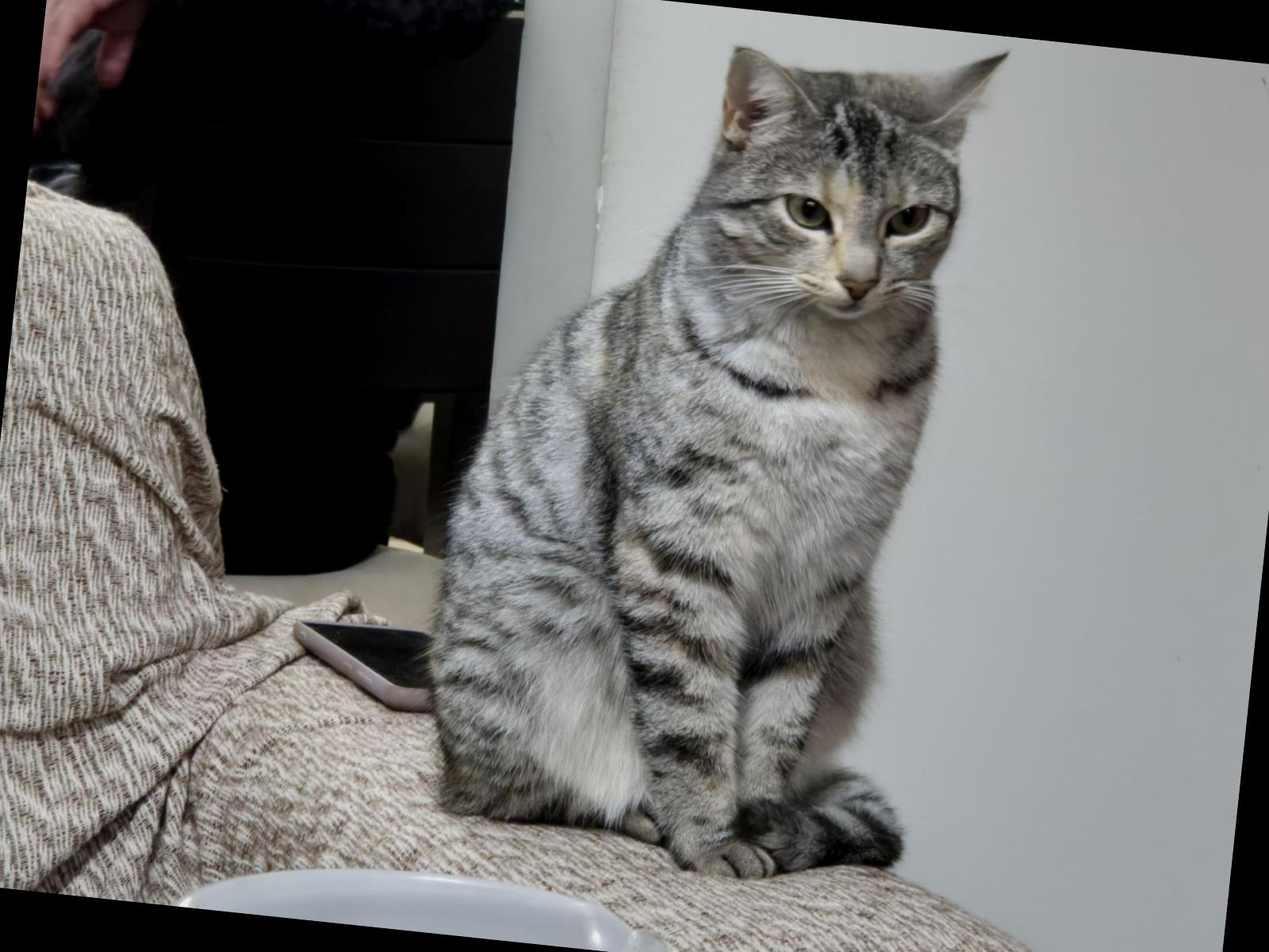macka: (420, 0, 1007, 905)
